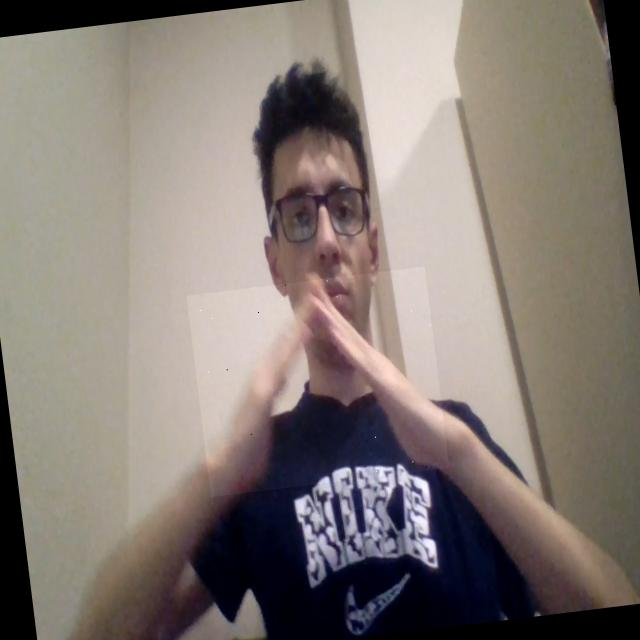house: (186, 266, 449, 497)
